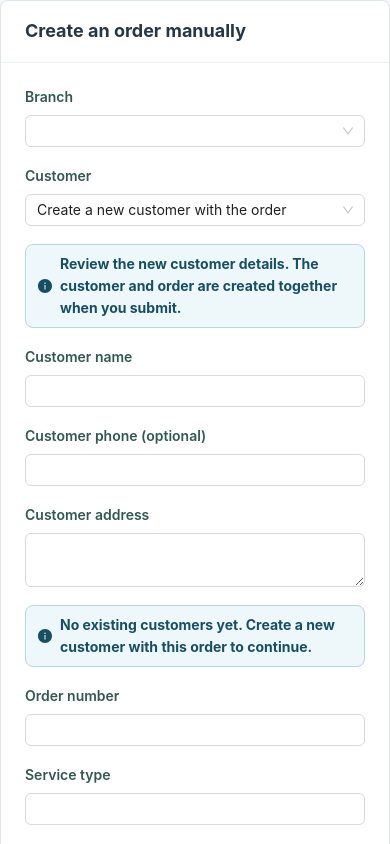
Scenario: manual order creation rendered interactions › ignores old workspace options after context changes
Check: the text "No existing customers yet. Create a new customer with this order to continue." is shown, box [60,614,352,658]
Click the dropdown labelled "Branch" at (195, 116), box [25,86,365,147]
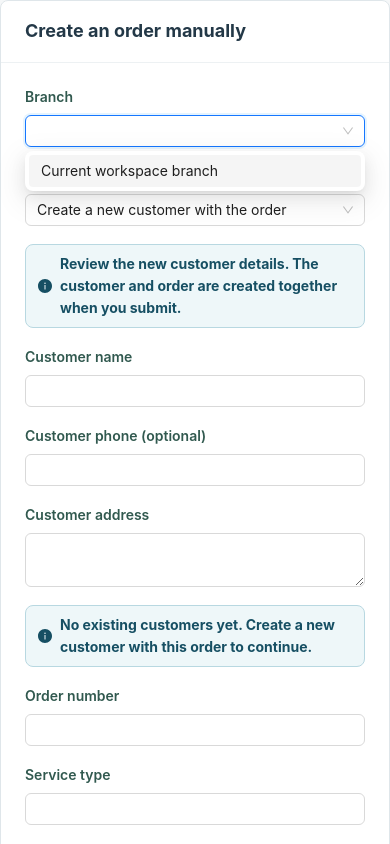
Check: the text "Current workspace branch" is shown, box [41,162,218,179]
